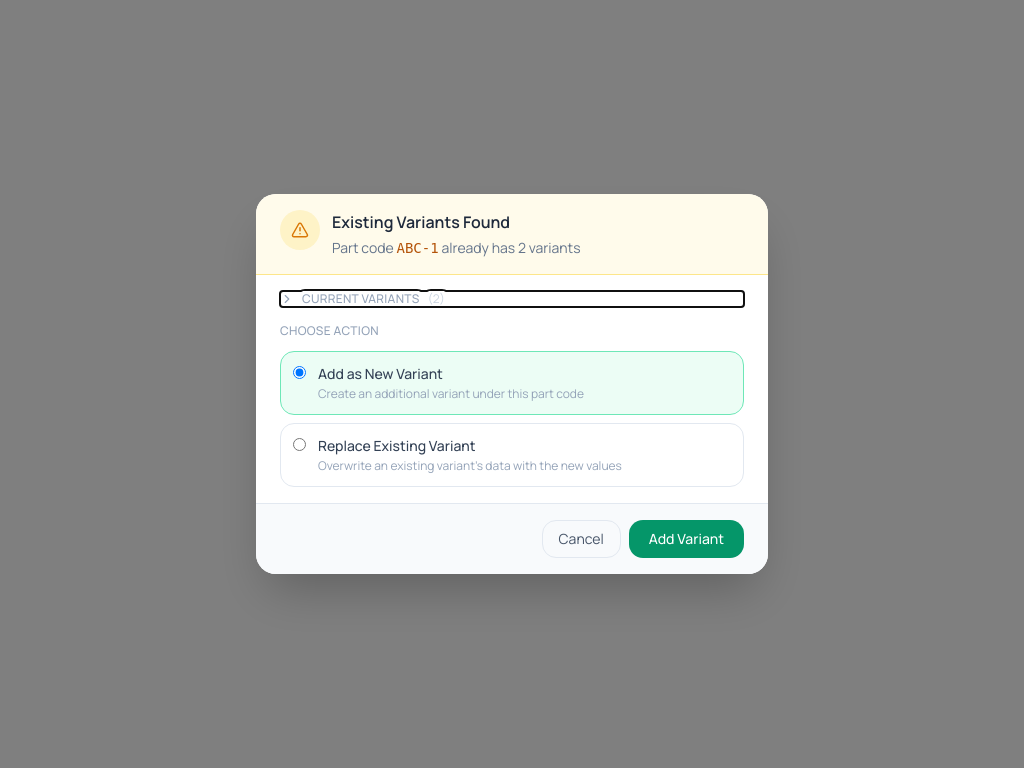
Test: VariantResolutionDialog › expands and lists variants
What coordinates should you click on to do the following:
click the text "Current Variants"
I would click on:
 (361, 299)
Its box is [302,291,420,307].
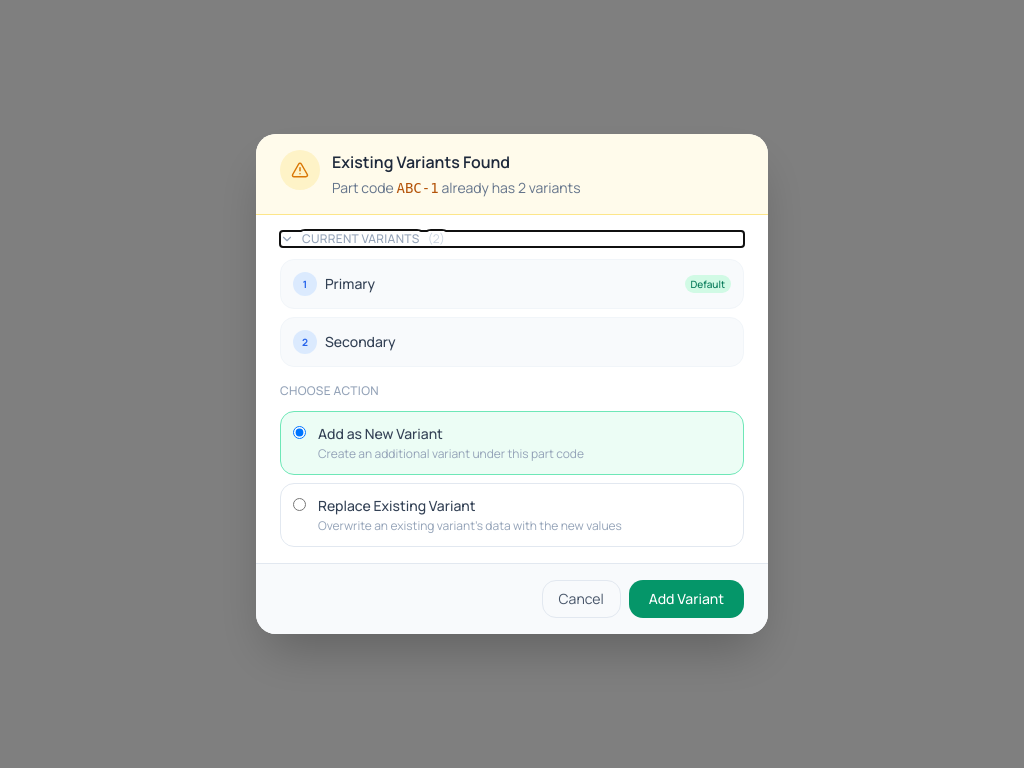
Result: the text "Primary" is shown at [325,274,375,293]
Result: the text "Secondary" is shown at [325,332,395,351]
Result: the text "Default" is shown at [684,275,731,293]
